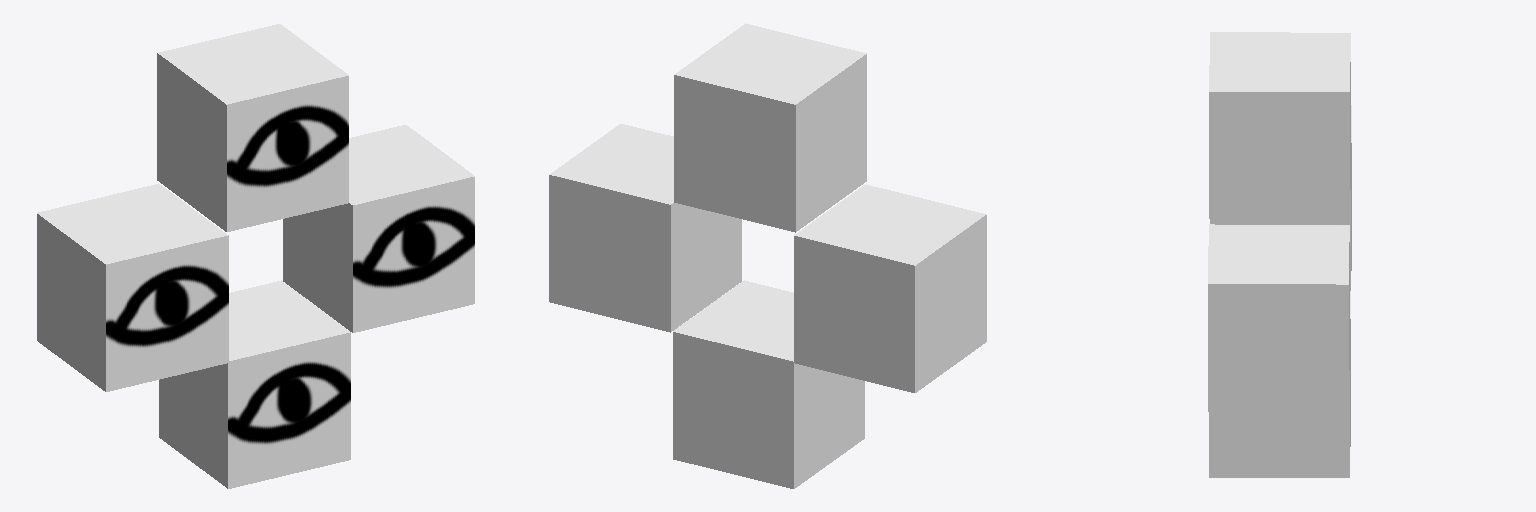
3 views of the same model, side by side, from view 1: azimuth 30°, elevation 25°; view 2: azimuth 150°, elevation 25°; view 3: azimuth 270°, elevation 25° (orthographic).
Visible parts, largest first — view 1: 立方体.003; view 2: 立方体.003; view 3: 立方体.003.
Part boxes in pixels (x1,y1,x2,y2): 立方体.003: (37,24,474,488); 立方体.003: (549,23,986,488); 立方体.003: (1208,32,1351,477).
Bounding box in the file's own units: 1.92 × 1.92 × 0.6533.
1 materials, 1 textured.